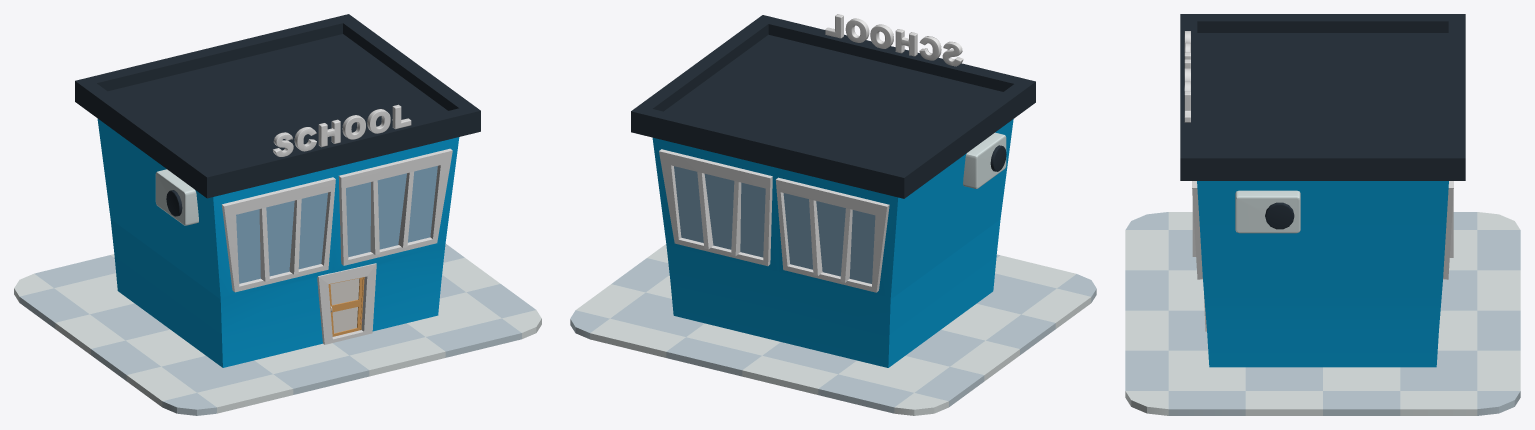
File: school.fbx
3 renders of one model, left to right at view 1: azimuth 30°, elevation 25°; view 2: azimuth 150°, elevation 25°; view 3: azimuth 270°, elevation 25°, orthographic. The views are drawn at different scales.
Visible parts, largest first — view 1: building, floor, School, door; view 2: building, floor, School; view 3: building, floor, School.
Boxes of the visible parts, bbox=[...] form: building: bbox=[75, 14, 480, 367]; floor: bbox=[14, 244, 541, 415]; School: bbox=[273, 104, 411, 156]; door: bbox=[328, 277, 362, 336]; building: bbox=[631, 15, 1035, 367]; floor: bbox=[570, 244, 1096, 415]; School: bbox=[825, 14, 963, 66]; building: bbox=[1180, 14, 1465, 367]; floor: bbox=[1125, 212, 1520, 415]; School: bbox=[1184, 31, 1190, 122].
Size of the model in its own units: 2426 by 1460 by 2054.
